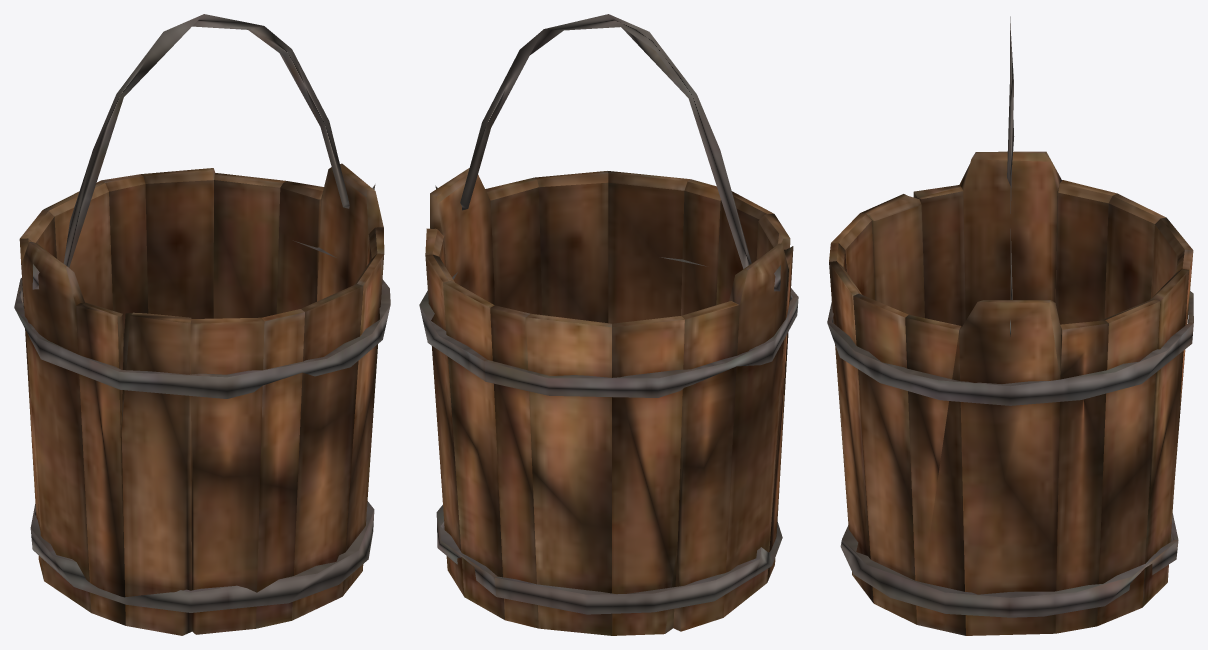
File: wooden_bucket_01.glb
The picture shows the model from 3 angles, left to right: view 1: azimuth 30°, elevation 25°; view 2: azimuth 150°, elevation 25°; view 3: azimuth 270°, elevation 25°; orthographic projection.
Visible parts, largest first — view 1: wooden_bucket_01, wooden_bucket_01_handle; view 2: wooden_bucket_01, wooden_bucket_01_handle; view 3: wooden_bucket_01, wooden_bucket_01_handle.
Part boxes in pixels (<box>): wooden_bucket_01: <box>14,163,390,635</box>; wooden_bucket_01_handle: <box>32,14,375,289</box>; wooden_bucket_01: <box>419,168,798,635</box>; wooden_bucket_01_handle: <box>435,14,780,291</box>; wooden_bucket_01: <box>827,151,1193,635</box>; wooden_bucket_01_handle: <box>1007,16,1014,336</box>.
Bounding box in the file's own units: 0.3577 × 0.5493 × 0.3342.
1 material, 1 textured.
